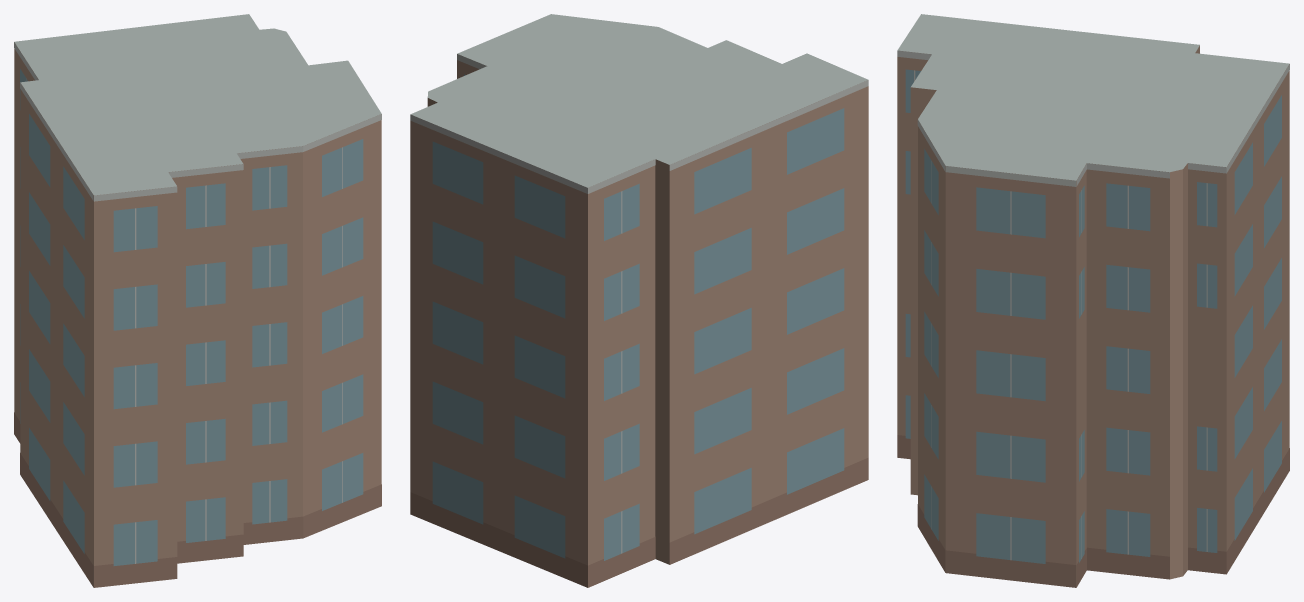
Rendered from survey-upis-32536761.glb.
3 views of the same model, side by side, from view 1: azimuth 30°, elevation 25°; view 2: azimuth 150°, elevation 25°; view 3: azimuth 270°, elevation 25° (orthographic). The views are drawn at different scales.
Visible parts, largest first — view 1: survey-upis-32536761.tmp; view 2: survey-upis-32536761.tmp; view 3: survey-upis-32536761.tmp.
Part boxes in pixels (bbox=[...]): survey-upis-32536761.tmp: bbox=[14, 14, 381, 587]; survey-upis-32536761.tmp: bbox=[410, 14, 868, 587]; survey-upis-32536761.tmp: bbox=[897, 14, 1289, 587].
Bounding box in the file's own units: 13.79 × 15.7 × 13.72.
